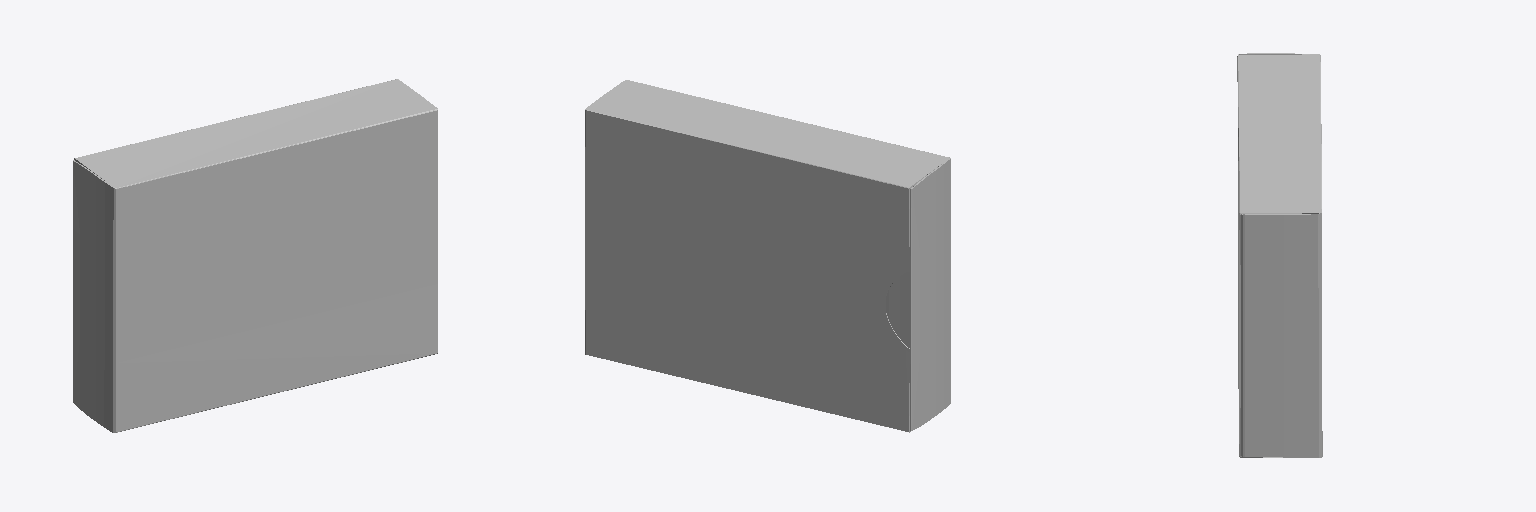
The model's file is Bicycle_Deck2.obj.
The picture shows the model from 3 angles: view 1: azimuth 30°, elevation 25°; view 2: azimuth 150°, elevation 25°; view 3: azimuth 270°, elevation 25°; orthographic projection.
Visible parts, largest first — view 1: Object003; view 2: Object003; view 3: Object003.
Part boxes in pixels (x1,y1,x2,y2): Object003: (73,79,437,432); Object003: (585,80,950,432); Object003: (1237,53,1322,457).
Bounding box in the file's own units: 9.13 × 6.53 × 2.05.